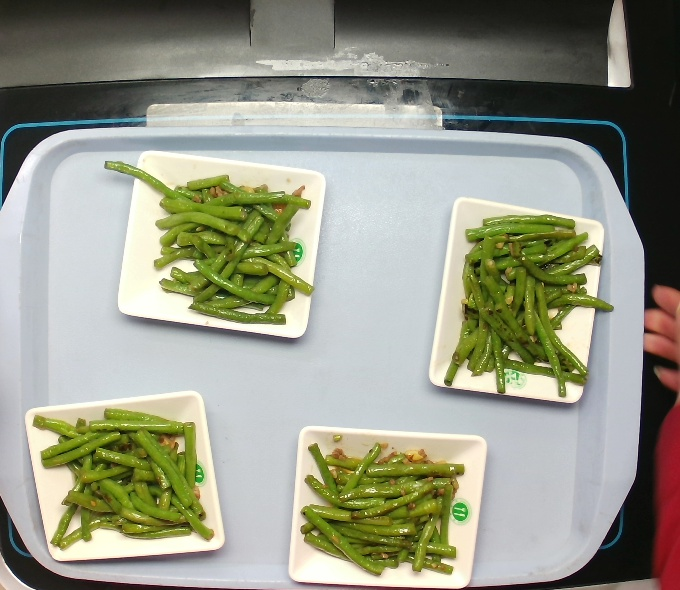wcq-RouMoJiangDou: (441, 205, 611, 403), (129, 159, 321, 331), (286, 419, 478, 589), (22, 401, 220, 565)
